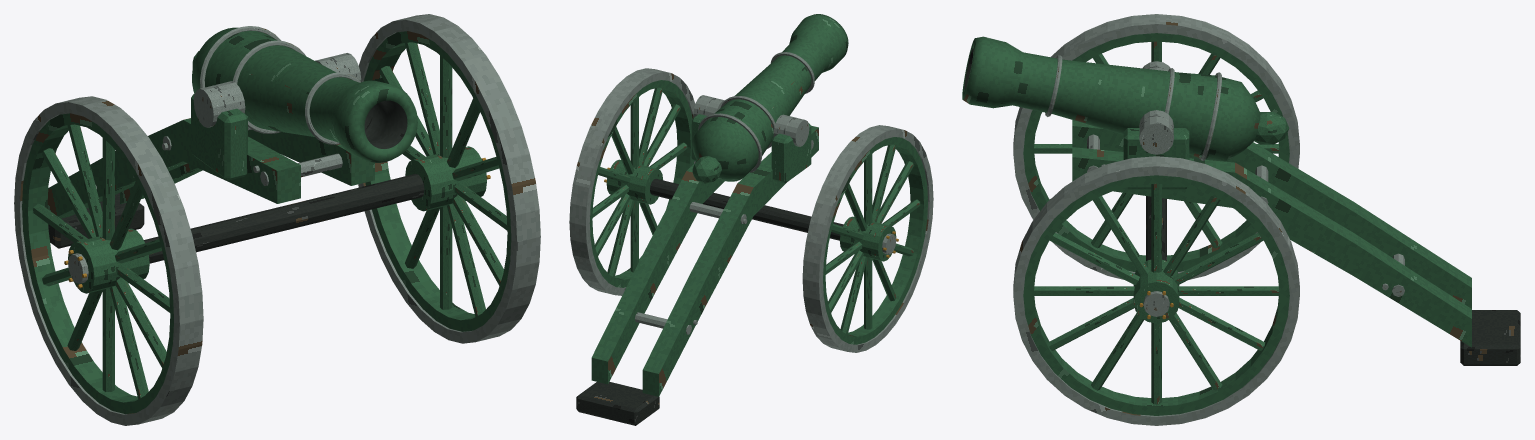
Rendered from cannon.glb.
The picture shows the model from 3 angles, left to right: view 1: azimuth 30°, elevation 25°; view 2: azimuth 150°, elevation 25°; view 3: azimuth 270°, elevation 25°; orthographic projection. The views are drawn at different scales.
Parts seen in each view (by area): view 1: Cannon_Material_Group_01, Cannon_Material_Group_00, Cannon_Material_Group_04, Cannon_Material_Group_03; view 2: Cannon_Material_Group_01, Cannon_Material_Group_00, Cannon_Material_Group_04, Cannon_Material_Group_03; view 3: Cannon_Material_Group_01, Cannon_Material_Group_00, Cannon_Material_Group_04, Cannon_Material_Group_03.
Part boxes in pixels (x1=…): Cannon_Material_Group_01: x1=22, y1=31, x2=511, y2=413; Cannon_Material_Group_00: x1=14, y1=14, x2=540, y2=425; Cannon_Material_Group_04: x1=192, y1=27, x2=417, y2=162; Cannon_Material_Group_03: x1=48, y1=174, x2=424, y2=263; Cannon_Material_Group_01: x1=589, y1=80, x2=927, y2=396; Cannon_Material_Group_00: x1=569, y1=52, x2=933, y2=352; Cannon_Material_Group_04: x1=692, y1=14, x2=848, y2=181; Cannon_Material_Group_03: x1=576, y1=178, x2=843, y2=425; Cannon_Material_Group_01: x1=1023, y1=33, x2=1471, y2=415; Cannon_Material_Group_00: x1=1013, y1=14, x2=1404, y2=425; Cannon_Material_Group_04: x1=962, y1=36, x2=1260, y2=161; Cannon_Material_Group_03: x1=1146, y1=196, x2=1520, y2=365.
Bounding box in the file's own units: 1.54 × 1.3 × 2.12.
Materials: 4 (4 with a texture image).
